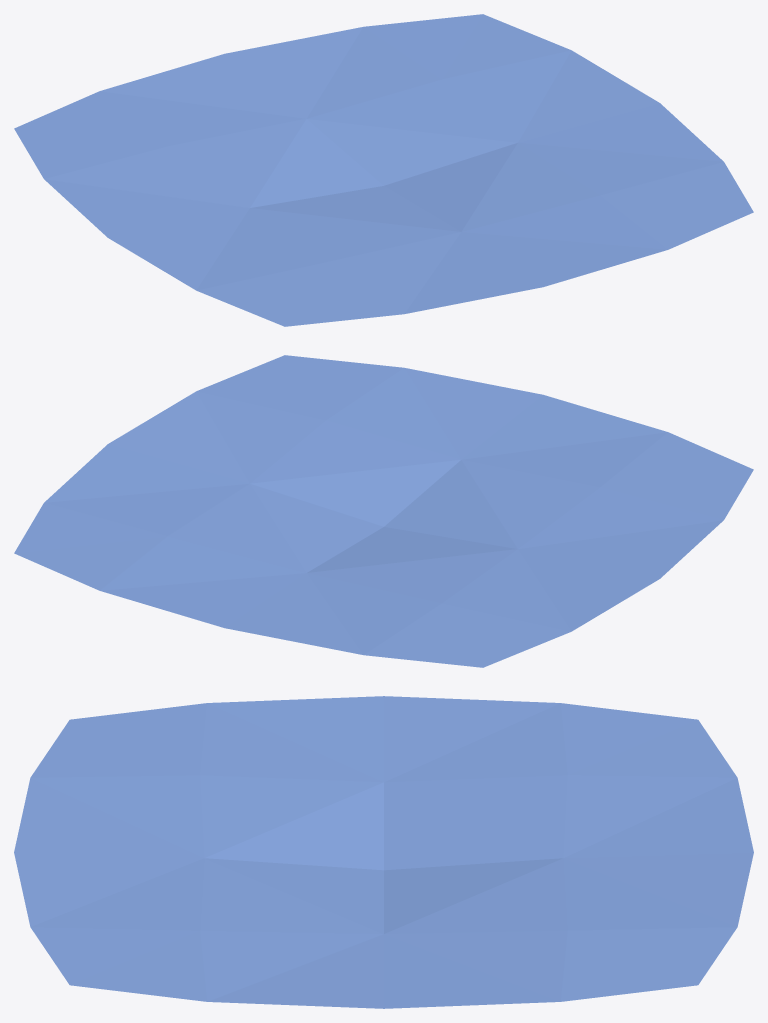
Rendered from puddle_medium.dae.
3 views of the same model, one above another, from view 1: azimuth 30°, elevation 25°; view 2: azimuth 150°, elevation 25°; view 3: azimuth 270°, elevation 25° (orthographic). The views are drawn at different scales.
Visible parts, largest first — view 1: Plane.001; view 2: Plane.001; view 3: Plane.001.
Part boxes in pixels (x1=…): Plane.001: x1=14, y1=14, x2=753, y2=326; Plane.001: x1=14, y1=355, x2=753, y2=667; Plane.001: x1=14, y1=696, x2=753, y2=1008.
Size of the model in its own units: 2.52 by 2.52 by 0.067.
